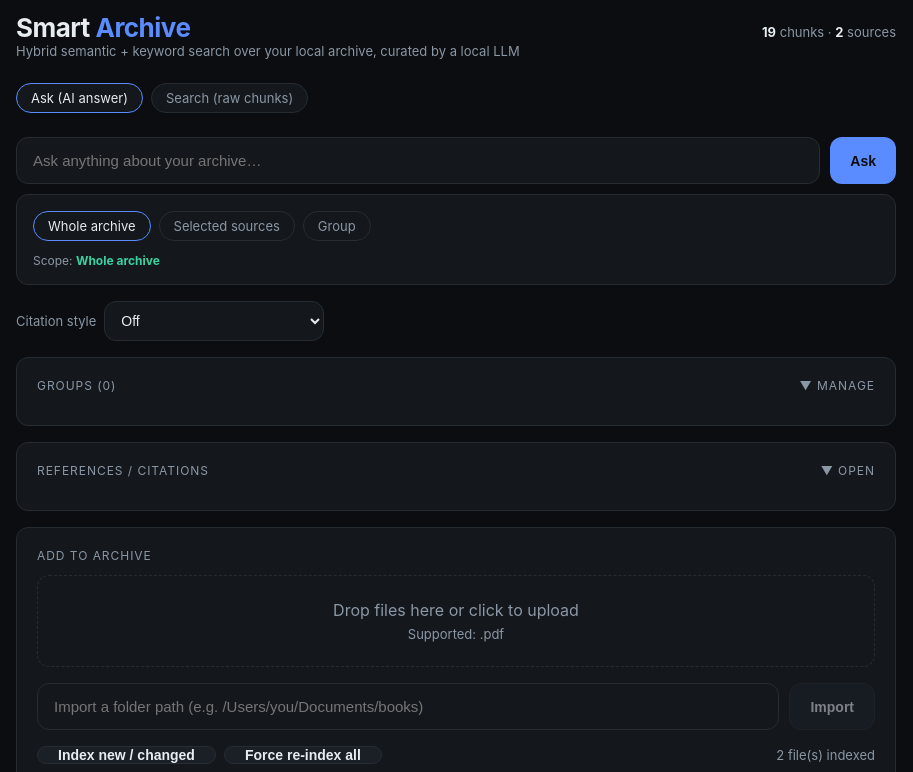
Test case: Bibliography_Block titles and content (Req 6.4, 6.6, 6.7) › shows 'References' when APA is selected
Type "what is alpha?" into the field with placeholder "Ask anything about your archive…" at (418, 160), box [16,137,820,184]
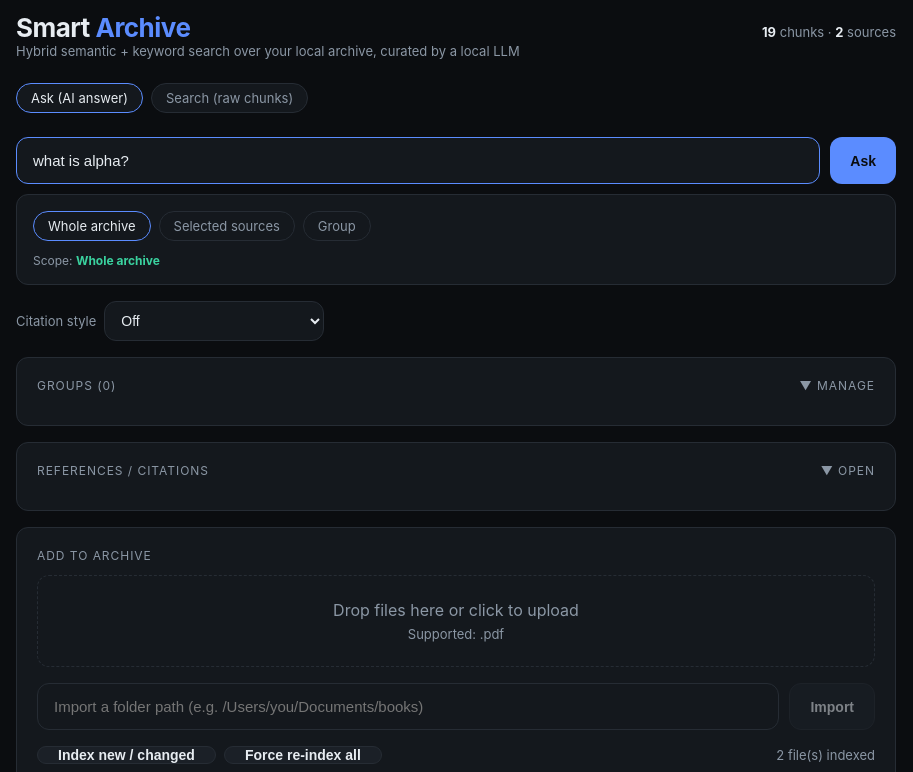
Click the button "Ask" at (863, 160), box [830,137,896,184]
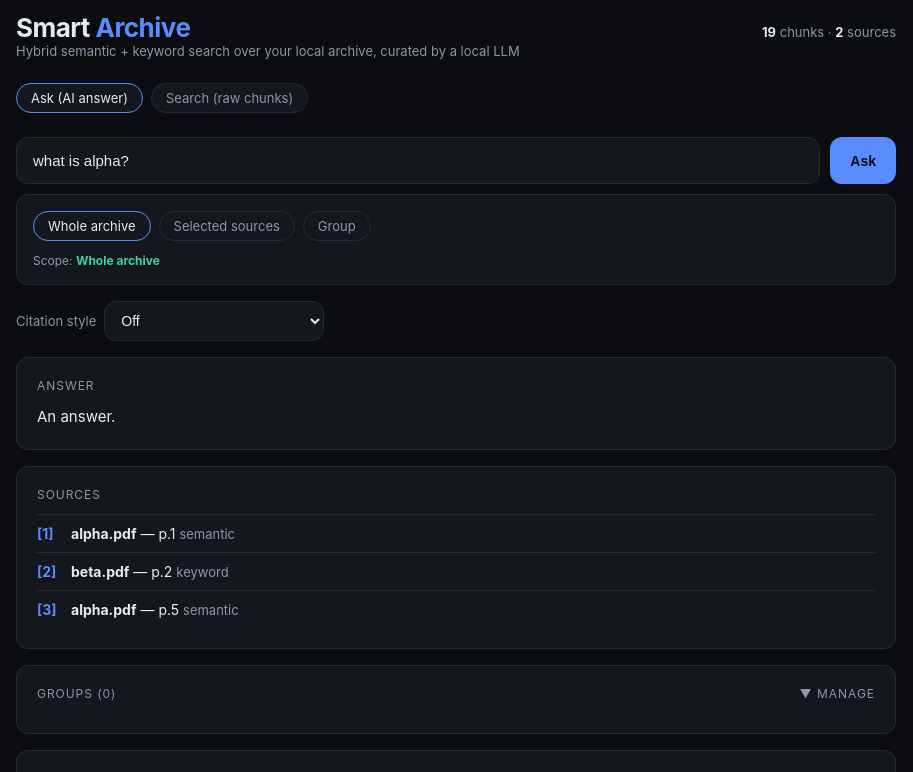
Result: the text "Sources" is shown at [37,487,101,502]
Select "APA" in the dropdown labelled "Citation style" at (214, 321), box [104,301,324,341]
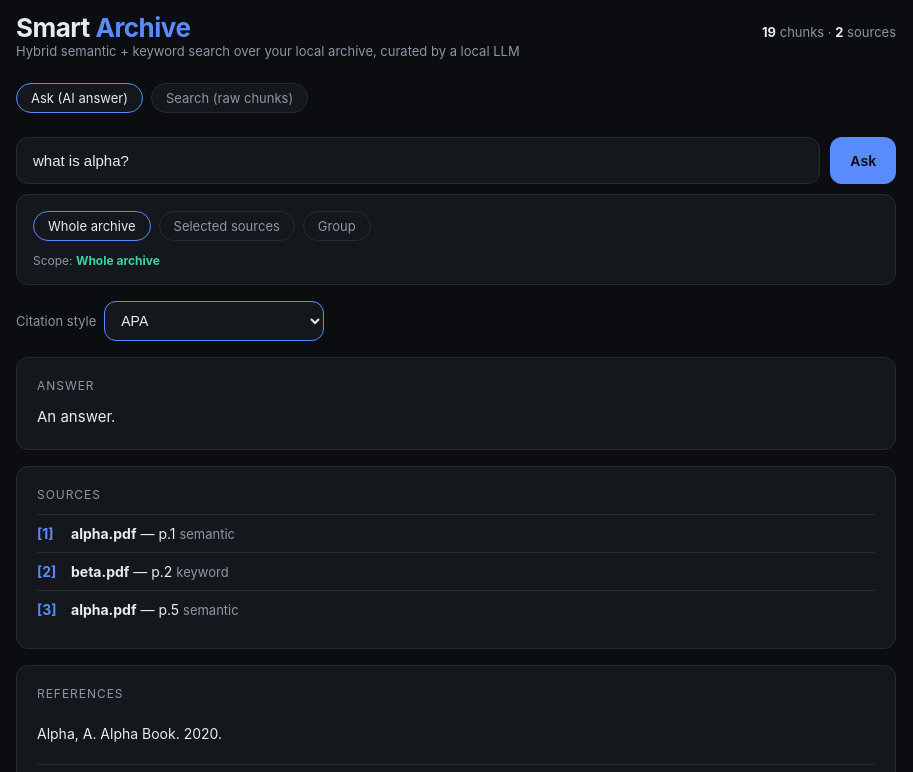
Result: the text "References" is shown at [37,686,124,701]
